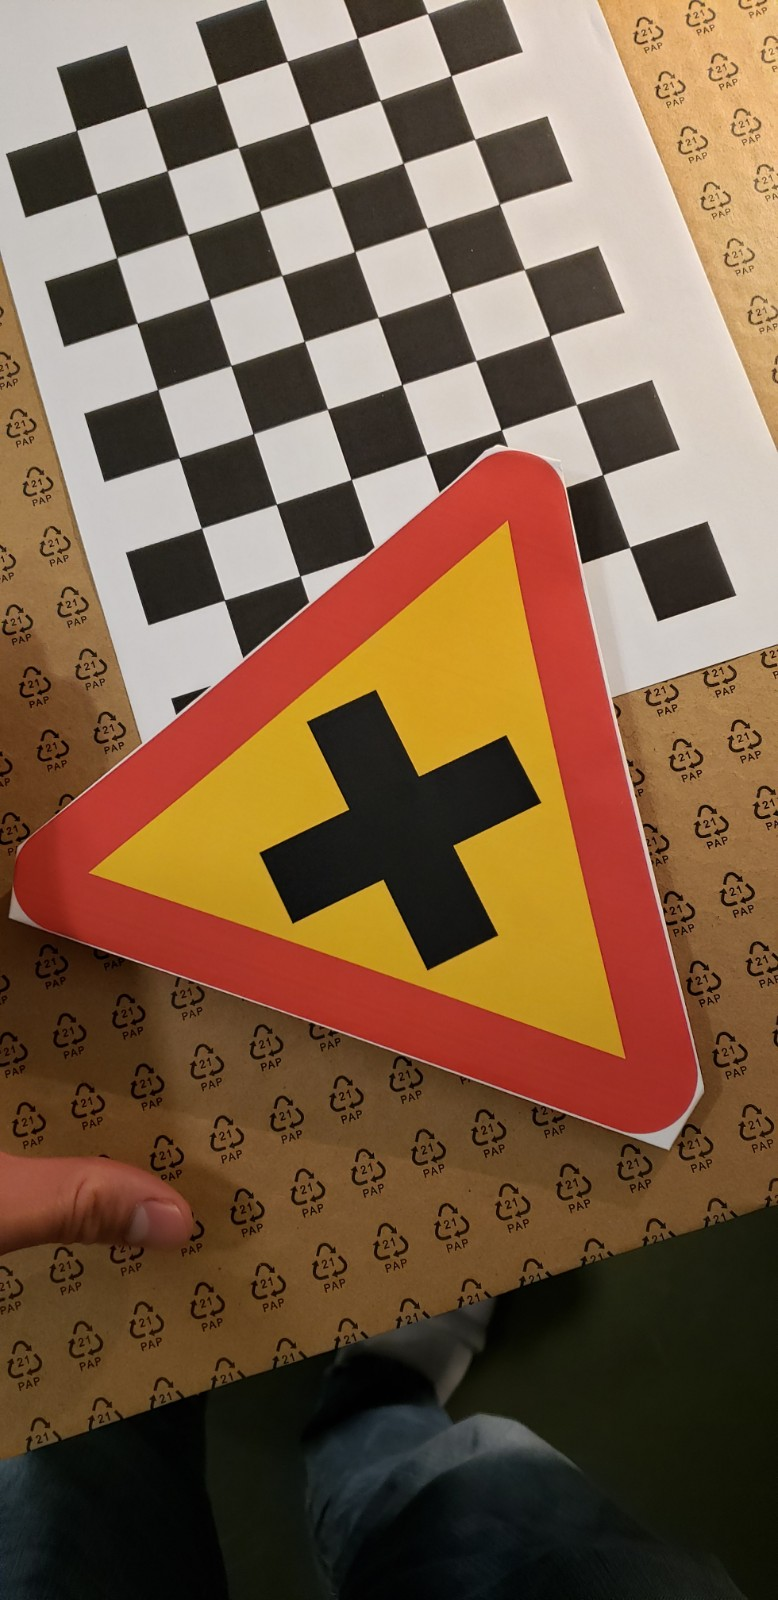junction: (19, 432, 740, 1162)
